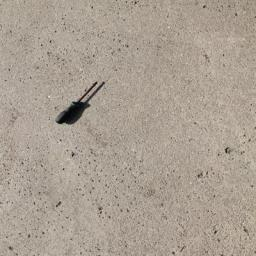FOD: (54, 79, 110, 126)
